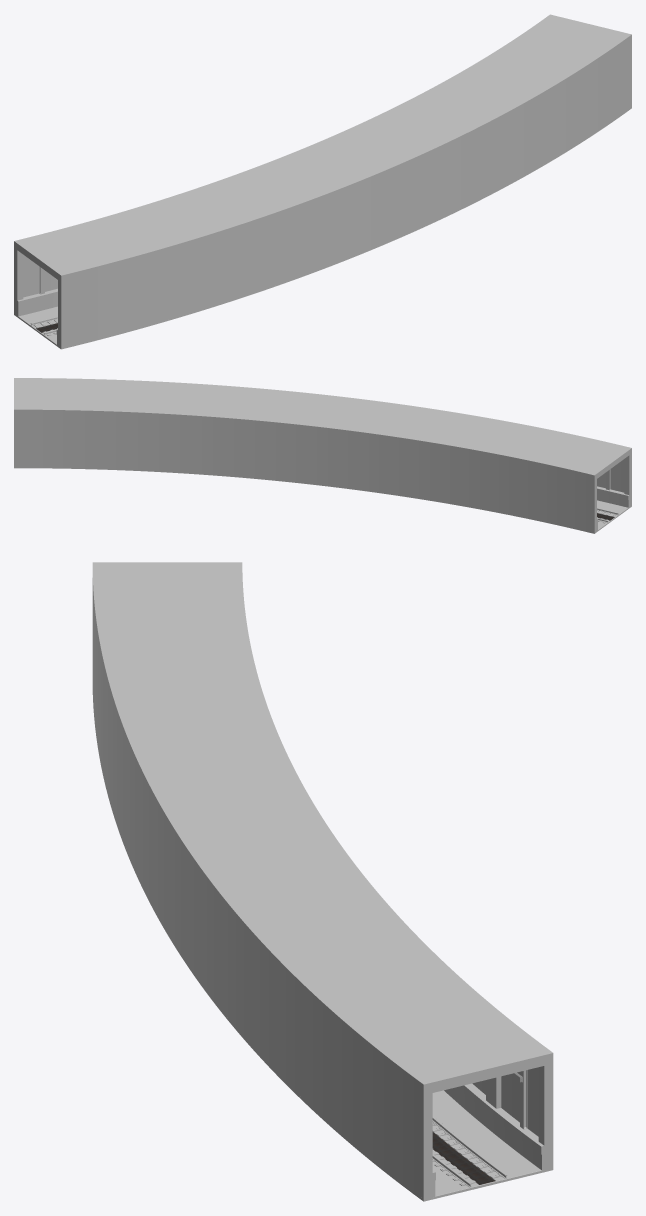
File: SM_Tunnel_Turn_Long_A_R.fbx
3 views of the same model, one above another, from view 1: azimuth 30°, elevation 25°; view 2: azimuth 150°, elevation 25°; view 3: azimuth 270°, elevation 25° (orthographic). The views are drawn at different scales.
Visible parts, largest first — view 1: SM_Tunnel_Turn_Long_A_R; view 2: SM_Tunnel_Turn_Long_A_R; view 3: SM_Tunnel_Turn_Long_A_R.
Part boxes in pixels (<box>): SM_Tunnel_Turn_Long_A_R: <box>14,14,631,349</box>; SM_Tunnel_Turn_Long_A_R: <box>14,378,631,533</box>; SM_Tunnel_Turn_Long_A_R: <box>92,562,553,1201</box>.
Bounding box in the file's own units: 4950 × 517 × 1846.
